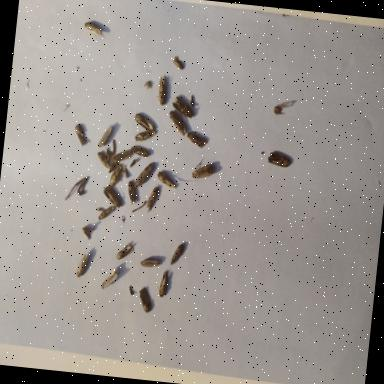pbw: (190, 154, 218, 183), (166, 108, 190, 138), (170, 94, 196, 121), (100, 182, 124, 210), (134, 160, 155, 192), (154, 170, 184, 192), (82, 19, 109, 43), (109, 144, 136, 168), (132, 111, 158, 134), (114, 238, 137, 264), (266, 148, 293, 170), (156, 73, 172, 109), (138, 252, 166, 272), (184, 129, 210, 150), (100, 266, 121, 292), (136, 284, 154, 314), (154, 268, 170, 300), (74, 250, 91, 280), (168, 241, 186, 269), (108, 162, 126, 190), (97, 122, 115, 150), (144, 184, 160, 214), (73, 122, 91, 148), (132, 128, 158, 146), (97, 201, 117, 223), (129, 142, 153, 160), (94, 150, 113, 172), (125, 180, 140, 206), (171, 53, 187, 73), (80, 222, 93, 241)
